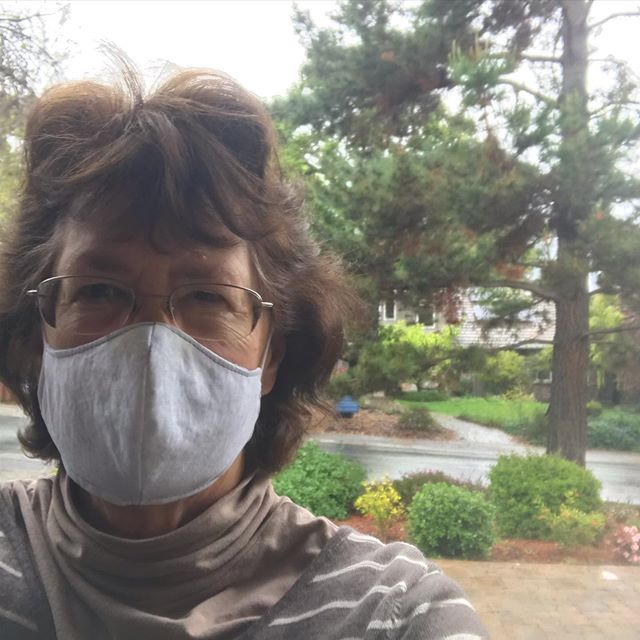homemade: (24, 335, 281, 504)
